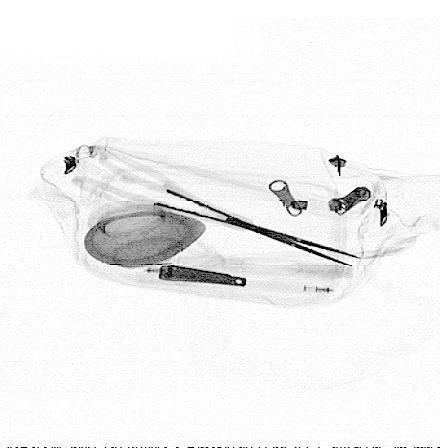Scissors: (73, 148, 367, 267)
